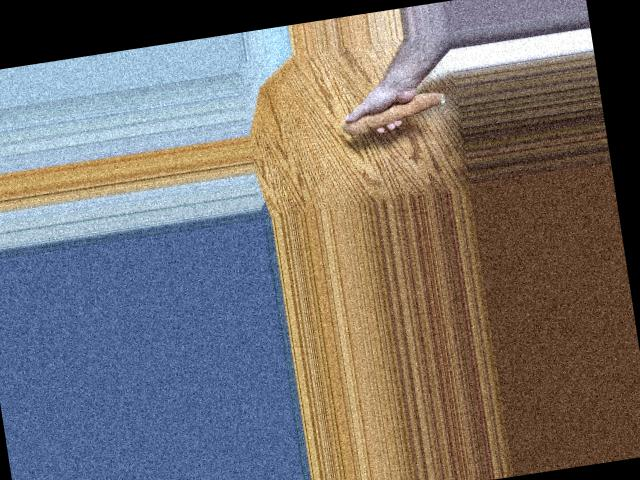sweet_potato: (339, 85, 453, 138)
